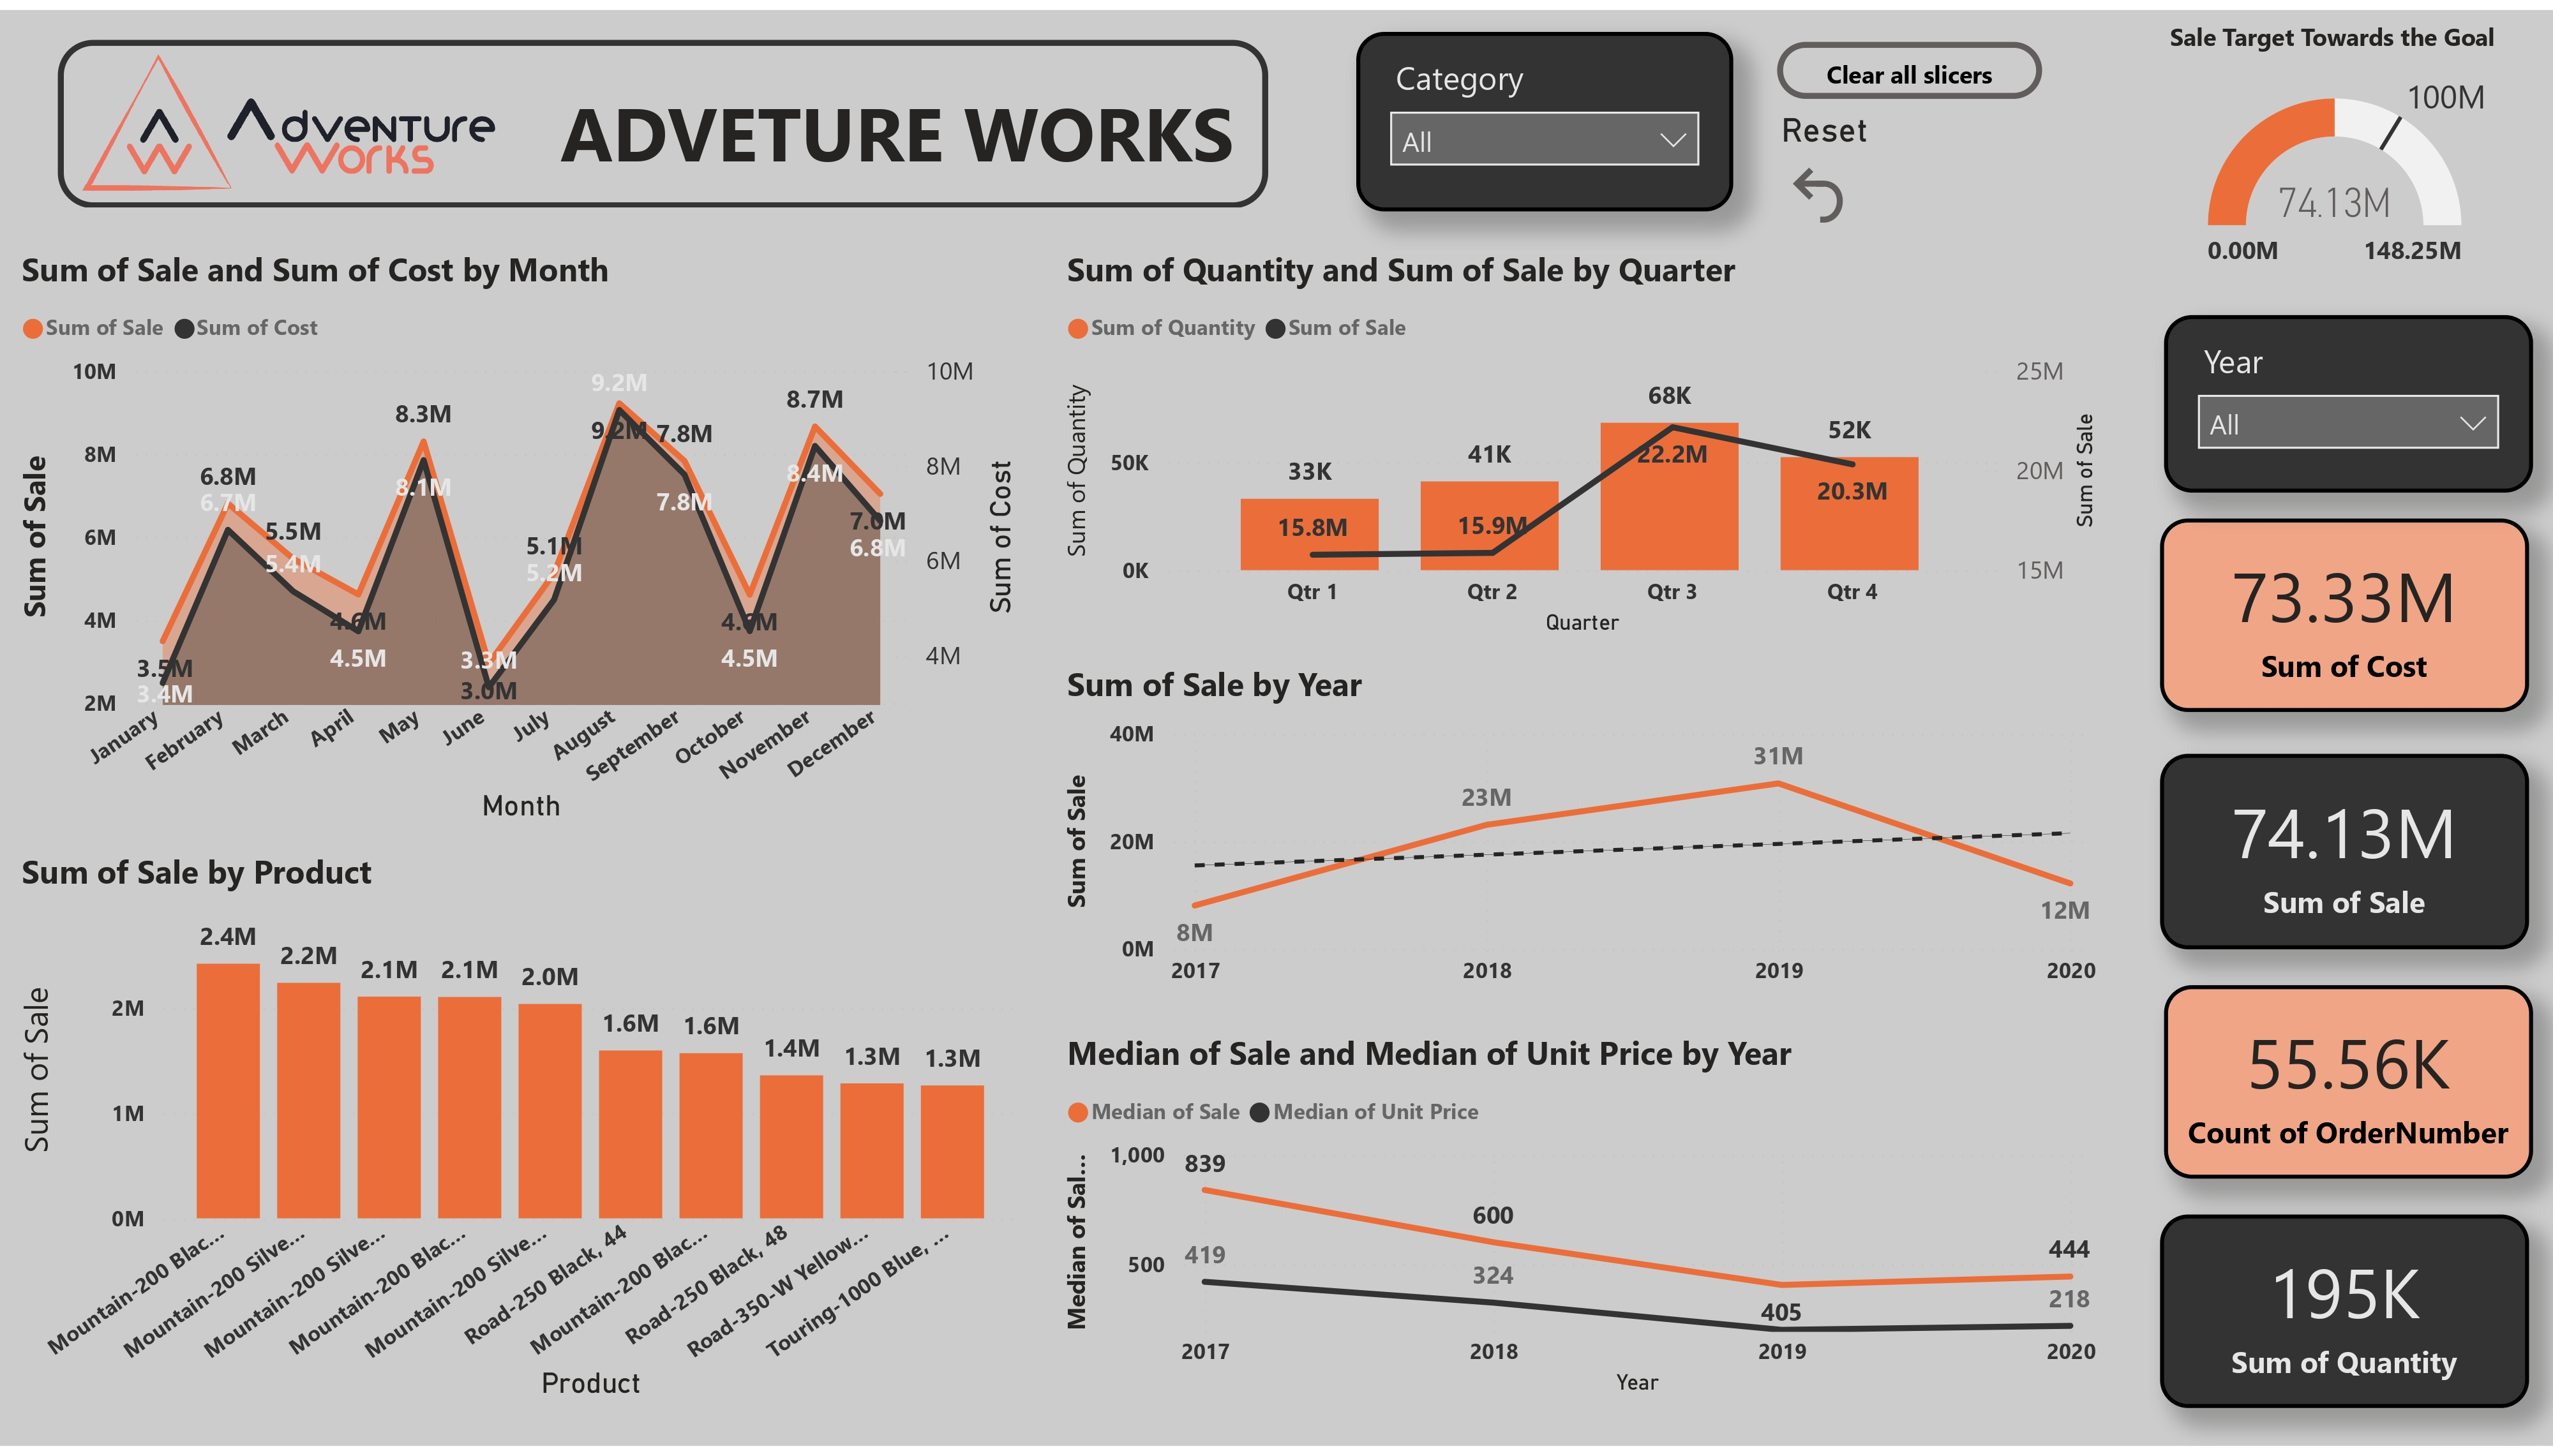

The dashboard page shown, as its layout file describes it:
{"tool":"powerbi","page":{"name":"1","canvas":[1280,720],"ordinal":0},"visuals":[{"type":"card","title":"Total Sale","fields":{"Values":["Sum(Sales.Sale)"]},"box":[1083.4,372.8,184.6,97.7],"z":0},{"type":"textbox","box":[276.8,30.7,359.5,66.4],"z":1000,"group":"g2"},{"type":"card","title":"Total Sale","fields":{"Values":["Sum(Sales.Cost)"]},"box":[1083.4,254.6,184.6,96.5],"z":1000},{"type":"image","box":[0,2.9,288.8,106.7],"z":2000,"group":"g1"},{"type":"card","title":"Total Sale","fields":{"Values":["CountNonNull(Sales.OrderNumber)"]},"box":[1084.6,488.6,184.6,96.5],"z":2000},{"type":"card","title":"Total Sale","fields":{"Values":["Sum(Sales.Quantity)"]},"box":[1083.4,604.4,184.6,96.5],"z":3000},{"type":"areaChart","fields":{"Category":["Sales.Order Date.Variation.Date Hierarchy.Month"],"Y":["Sum(Sales.Sale)"],"Y2":["Sum(Sales.Cost)"]},"box":[6,119.4,507.9,293.2],"z":4000},{"type":"lineClusteredColumnComboChart","fields":{"Category":["Sales.Order Date.Variation.Date Hierarchy.Quarter"],"Y":["Sum(Sales.Quantity)"],"Y2":["Sum(Sales.Sale)"]},"box":[529.6,119.4,526,199.1],"z":5000},{"type":"clusteredColumnChart","fields":{"Category":["Sales.Product"],"Y":["Sum(Sales.Sale)"]},"box":[6,421,509.1,279.9],"z":6000},{"type":"slicer","fields":{"Values":["Sales.Order Date.Variation.Date Hierarchy.Year"]},"box":[1084.6,153.2,184.6,89.3],"z":7000},{"type":"gauge","title":"Sale Target Towards the Goal","fields":{"Y":["Sum(Sales.Sale)"],"TargetValue":["Sales.TARGET SALE"]},"box":[1083.4,4.8,185.8,133.9],"z":8000},{"type":"lineChart","fields":{"Category":["Sales.Order Date.Variation.Date Hierarchy.Year"],"Y":["Sum(Sales.Sale)"]},"box":[529.6,326.9,526,171.3],"z":9000},{"type":"lineChart","fields":{"Y":["Median(Sales.Sale)","Median(Sales.Unit Price)"],"Category":["Sales.Order Date.Variation.Date Hierarchy.Year"]},"box":[529.6,511.5,526,187],"z":10000},{"type":"slicer","fields":{"Values":["Sales.Category"]},"box":[680,11.4,188.6,90],"z":11000},{"type":"actionButton","box":[891.4,15.7,132.9,28.6],"z":12000},{"type":"group","id":"g1","title":"Group 2","box":[0,2.9,635.7,107.1],"z":13000},{"type":"actionButton","title":"Reset","box":[892.9,50,65.7,61.4],"z":14000},{"type":"shape","box":[29.5,15,606.8,84.5],"z":15000,"group":"g2"},{"type":"group","id":"g2","title":"Group 1","box":[29.5,15,606.8,84.5],"z":15001,"group":"g1"}]}

Visuals, with their boxes in screenshot pixels (x1, y1, x2, y2), scaled from the page's 1280x720 canvas onto the 2553x1456 screenshot:
"Total Sale" card: detection(2161, 754, 2529, 951)
textbox: detection(552, 62, 1269, 197)
"Total Sale" card: detection(2161, 515, 2529, 710)
image: detection(0, 6, 576, 221)
"Total Sale" card: detection(2163, 988, 2531, 1183)
"Total Sale" card: detection(2161, 1222, 2529, 1417)
areaChart - Sales.Order Date.Variation.Date Hierarchy.Month x Sum(Sales.Sale): detection(12, 241, 1025, 835)
lineClusteredColumnComboChart - Sales.Order Date.Variation.Date Hierarchy.Quarter x Sum(Sales.Quantity): detection(1056, 241, 2106, 644)
clusteredColumnChart - Sales.Product x Sum(Sales.Sale): detection(12, 851, 1028, 1417)
slicer - Sales.Order Date.Variation.Date Hierarchy.Year: detection(2163, 310, 2531, 491)
"Sale Target Towards the Goal" gauge: detection(2161, 10, 2531, 281)
lineChart - Sales.Order Date.Variation.Date Hierarchy.Year x Sum(Sales.Sale): detection(1056, 661, 2106, 1007)
lineChart - Median(Sales.Sale) x Median(Sales.Unit Price): detection(1056, 1034, 2106, 1413)
slicer - Sales.Category: detection(1356, 23, 1732, 205)
actionButton: detection(1778, 32, 2043, 89)
"Group 2" group: detection(0, 6, 1268, 223)
"Reset" actionButton: detection(1781, 101, 1912, 225)
shape: detection(59, 31, 1269, 201)
"Group 1" group: detection(59, 31, 1269, 201)
